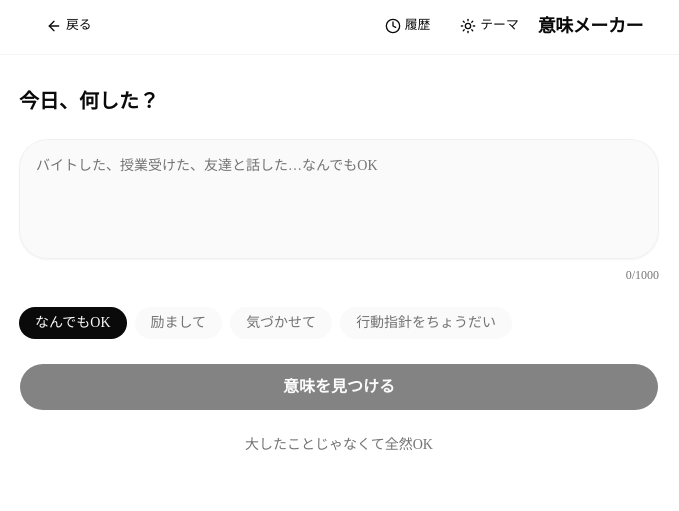
Test: InputPage › should show rate limit error on 429
Type "バイトした" into the text box named "今日やったこと" at (339,199), box 19,139 -> 659,259
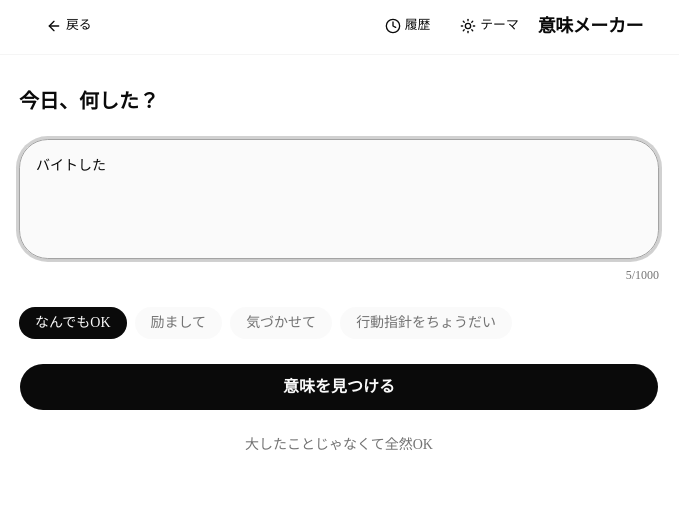
Click the button "意味を見つける" at (339,387), box 19,363 -> 659,411
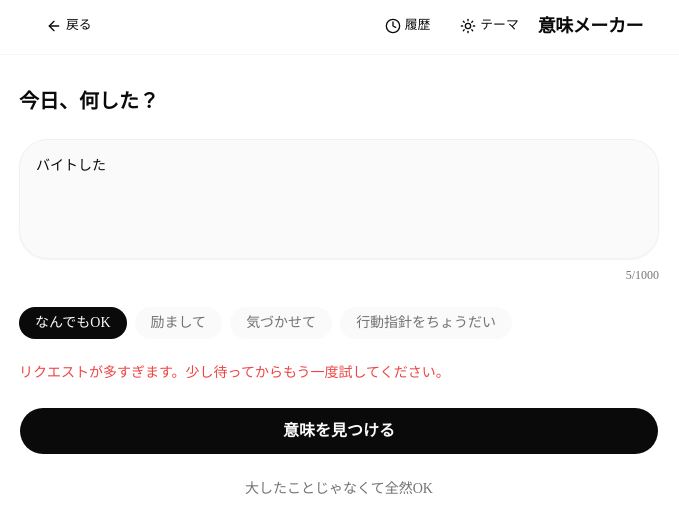
Check: the message shows "リクエストが多すぎます", box 19,365 -> 450,380
